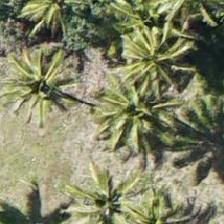coconut_tree: (82, 65, 172, 155), (111, 3, 201, 93), (1, 29, 91, 119), (43, 157, 133, 223), (100, 0, 190, 54), (106, 170, 196, 223), (0, 0, 82, 53)
